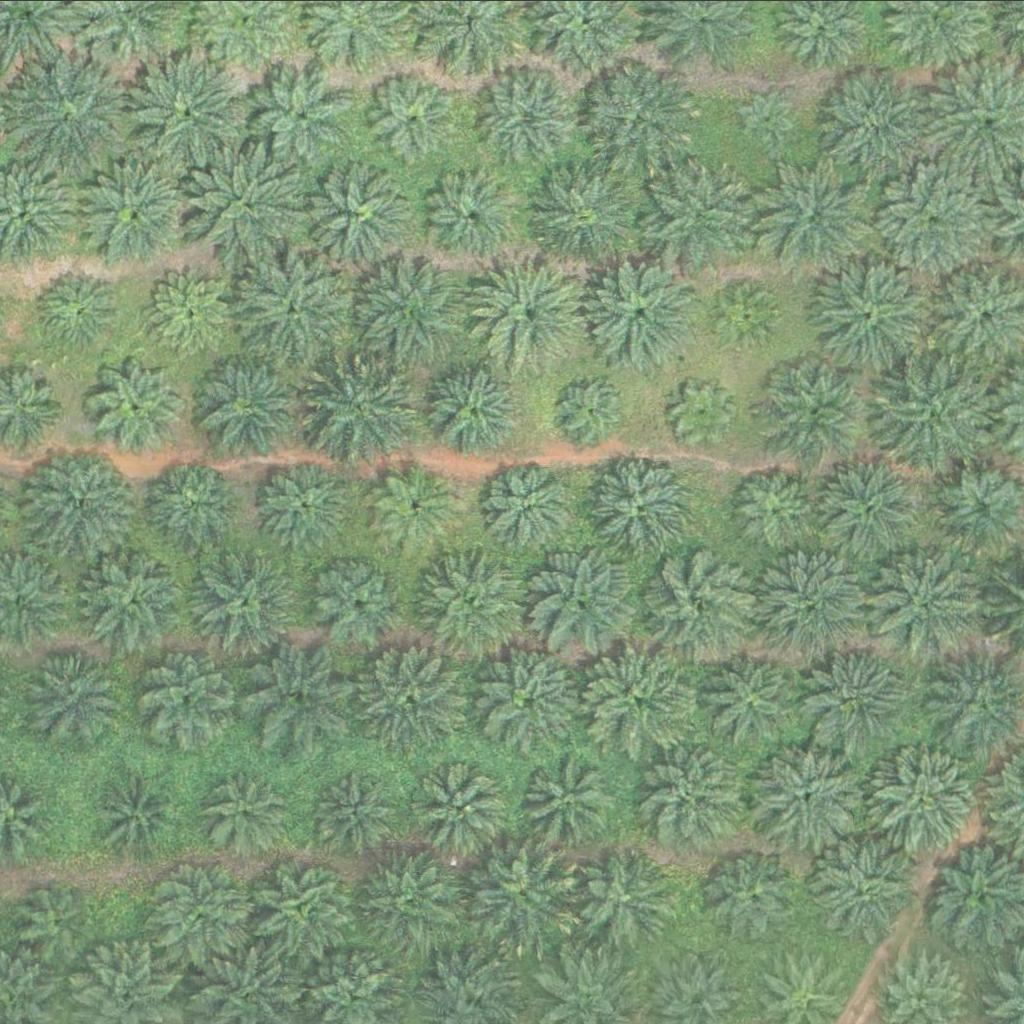Kelapa_Sawit: (77, 543, 191, 656), (23, 443, 137, 556), (193, 346, 307, 459), (306, 354, 420, 467), (805, 833, 919, 946), (358, 637, 471, 750), (477, 642, 590, 755), (415, 348, 528, 461), (477, 256, 590, 369), (82, 156, 195, 269), (15, 53, 128, 166), (133, 55, 246, 168), (754, 163, 867, 276), (877, 159, 990, 272), (588, 254, 701, 367), (814, 257, 927, 370), (643, 549, 756, 662), (756, 545, 869, 658), (871, 544, 984, 657), (581, 644, 694, 757), (701, 642, 814, 755), (238, 249, 352, 361), (350, 252, 464, 364), (418, 155, 532, 267), (587, 61, 701, 173), (530, 158, 644, 270), (751, 737, 865, 849), (872, 741, 986, 853), (365, 837, 478, 949), (237, 638, 350, 750), (184, 545, 297, 657), (415, 548, 528, 660), (188, 148, 301, 260), (301, 154, 414, 266), (819, 66, 932, 178), (643, 155, 756, 267), (760, 354, 873, 466), (882, 355, 995, 467), (587, 446, 700, 558), (818, 452, 931, 564), (528, 546, 641, 658), (803, 642, 916, 754), (635, 736, 748, 848), (469, 840, 582, 952), (153, 854, 254, 954), (250, 856, 351, 956), (92, 764, 193, 864), (410, 757, 511, 857), (133, 648, 234, 748), (304, 551, 405, 651), (250, 67, 351, 167), (519, 751, 620, 851), (20, 640, 120, 740), (142, 454, 242, 554), (256, 454, 356, 554), (88, 357, 188, 457), (479, 64, 579, 164), (578, 848, 678, 948), (708, 847, 808, 947), (488, 461, 576, 549), (33, 264, 121, 352), (147, 267, 235, 355), (728, 464, 816, 552), (313, 767, 402, 854), (200, 764, 288, 851), (372, 462, 460, 549), (369, 71, 457, 158), (18, 880, 93, 955), (715, 283, 778, 346), (561, 375, 624, 438), (672, 380, 735, 443), (735, 87, 798, 149)
